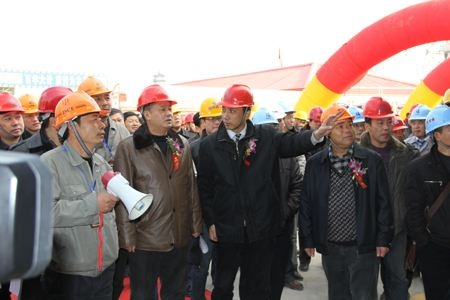blue: (424, 105, 450, 146), (408, 103, 430, 138), (345, 102, 366, 135)
none: (122, 109, 140, 135)
red: (136, 82, 175, 133), (37, 84, 72, 135), (361, 95, 395, 144), (220, 82, 254, 131), (2, 90, 26, 143)
yellow: (52, 91, 105, 150), (319, 104, 356, 148), (77, 75, 112, 117), (199, 95, 224, 134), (17, 92, 41, 132), (291, 110, 308, 130)
